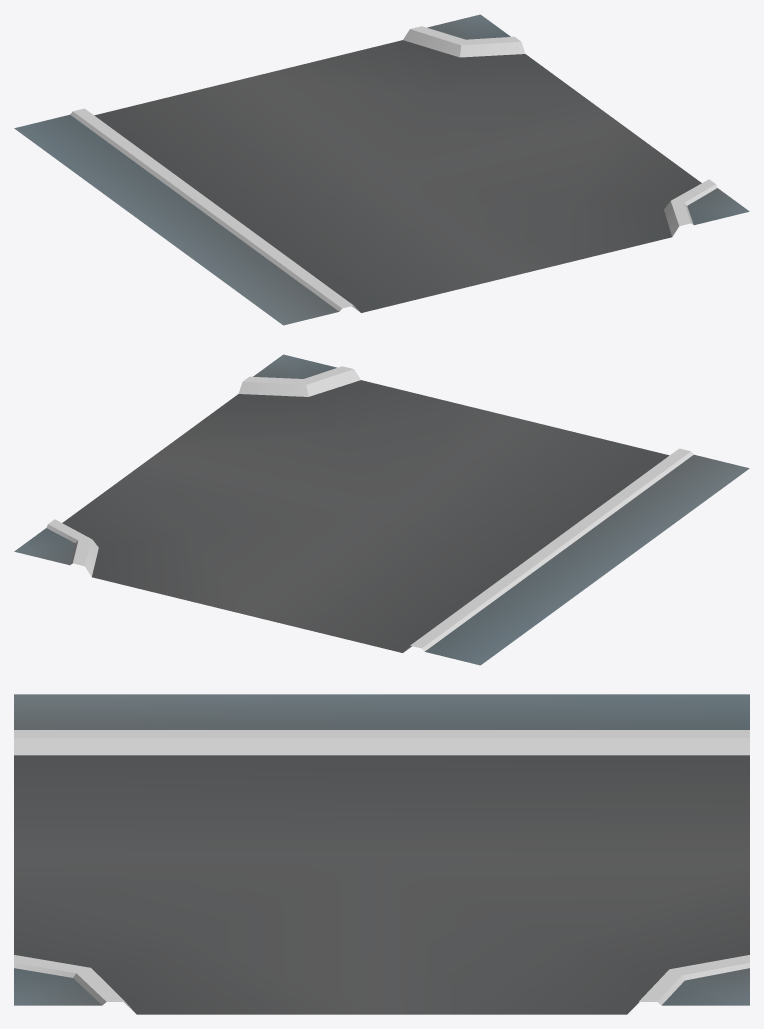
File: SRoad01.fbx
The picture shows the model from 3 angles, top to bottom: view 1: azimuth 30°, elevation 25°; view 2: azimuth 150°, elevation 25°; view 3: azimuth 270°, elevation 25°; orthographic projection. The views are drawn at different scales.
Parts seen in each view (by area): view 1: SRoad13; view 2: SRoad13; view 3: SRoad13.
Part boxes in pixels (x1,y1,x2,y2): SRoad13: (14,14,749,325); SRoad13: (14,354,749,665); SRoad13: (14,694,749,1014).
Size of the model in its own units: 2 by 0.038 by 2.
1 material, 1 textured.
